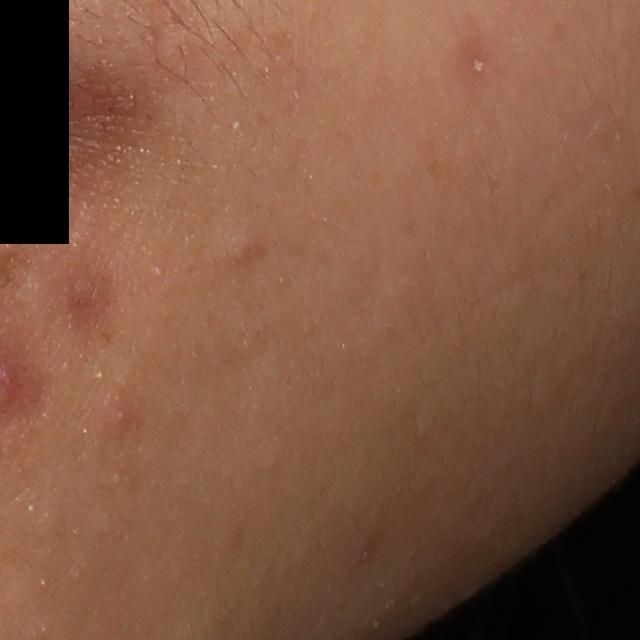comedo: (226, 237, 264, 267), (152, 265, 168, 279)
